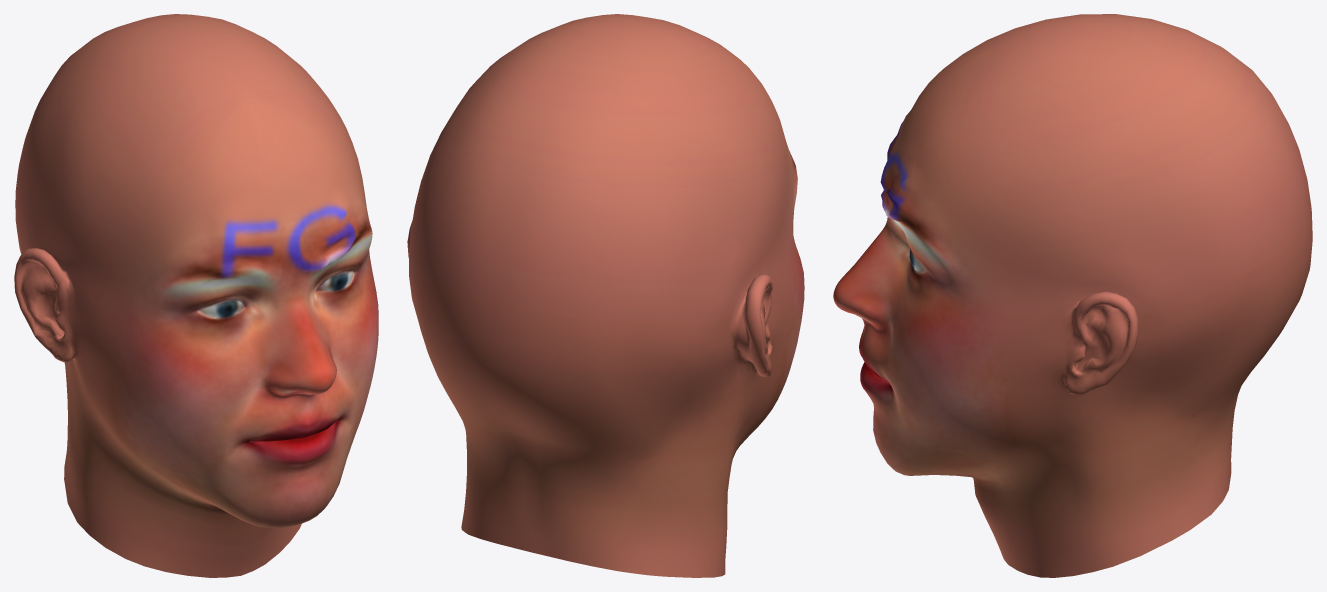
The model's file is random_anyrace_anysex_19.obj.
3 views of the same model, side by side, from view 1: azimuth 30°, elevation 25°; view 2: azimuth 150°, elevation 25°; view 3: azimuth 270°, elevation 25° (orthographic). The views are drawn at different scales.
Visible parts, largest first — view 1: HeadHires; view 2: HeadHires; view 3: HeadHires.
Boxes of the visible parts, box(x1,y1,x2,y2) form: HeadHires: box(14, 14, 378, 577); HeadHires: box(407, 14, 804, 577); HeadHires: box(833, 14, 1312, 577).
Size of the model in its own units: 191 by 283 by 235.
3 materials, 3 textured.
